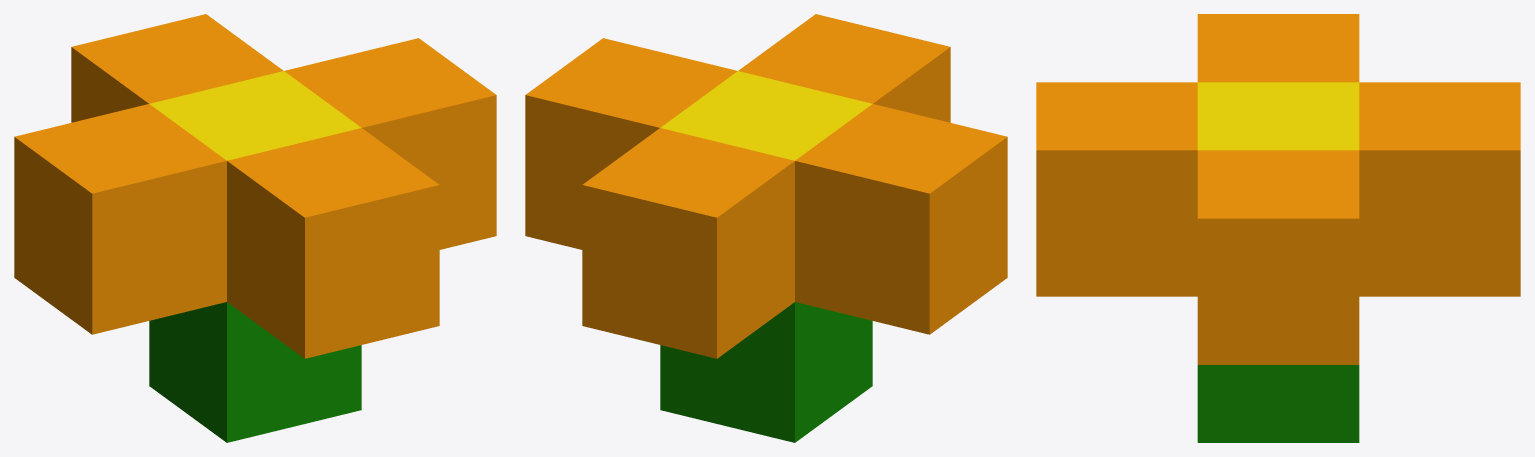
The model's file is (8) Orange FlowerCup (Stage 3).obj.
3 renders of one model, left to right at view 1: azimuth 30°, elevation 25°; view 2: azimuth 150°, elevation 25°; view 3: azimuth 270°, elevation 25°, orthographic. The views are drawn at different scales.
Bounding box in the file's own units: 0.3 × 0.2 × 0.3.
Materials: 1 (1 with a texture image).
